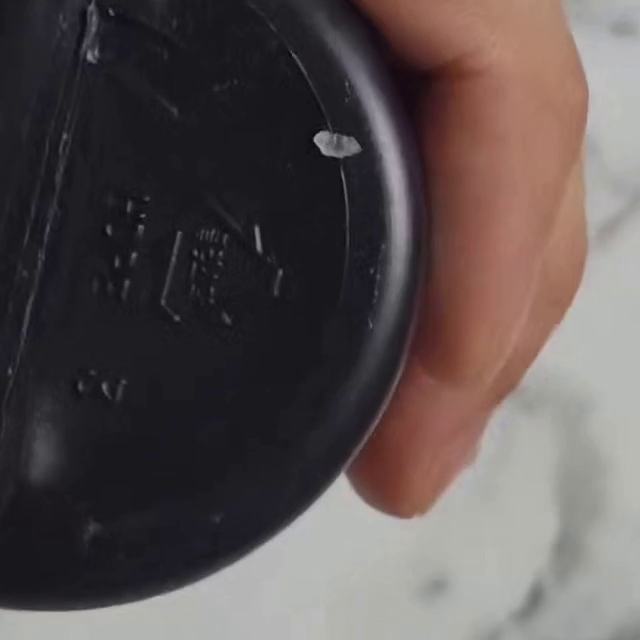Plastic: (153, 200, 287, 337)
